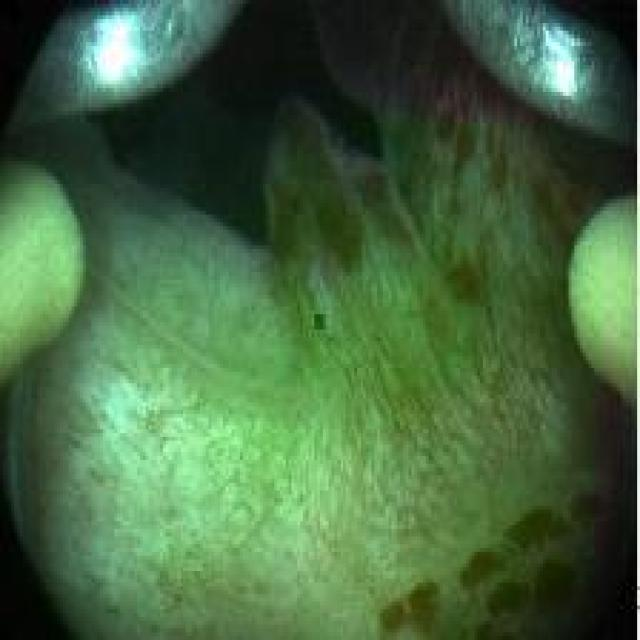color misalignment: (305, 302, 337, 347)
contrast: (112, 9, 365, 233), (562, 450, 634, 639)
instrument: (8, 6, 252, 127), (445, 4, 636, 158), (3, 159, 86, 399), (575, 184, 636, 419)
specularity: (530, 21, 593, 101), (93, 14, 136, 87)
